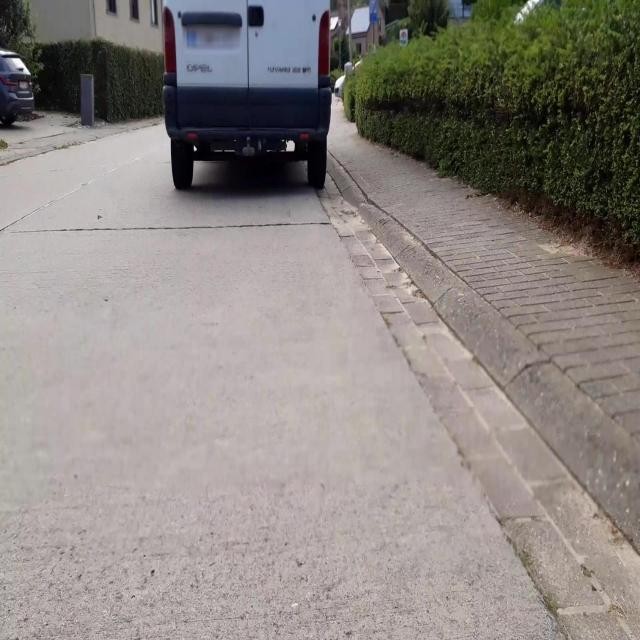Automobile: (163, 0, 330, 190), (0, 48, 34, 126)
Road: (0, 127, 554, 639)
Sidewalk: (329, 128, 639, 552)
